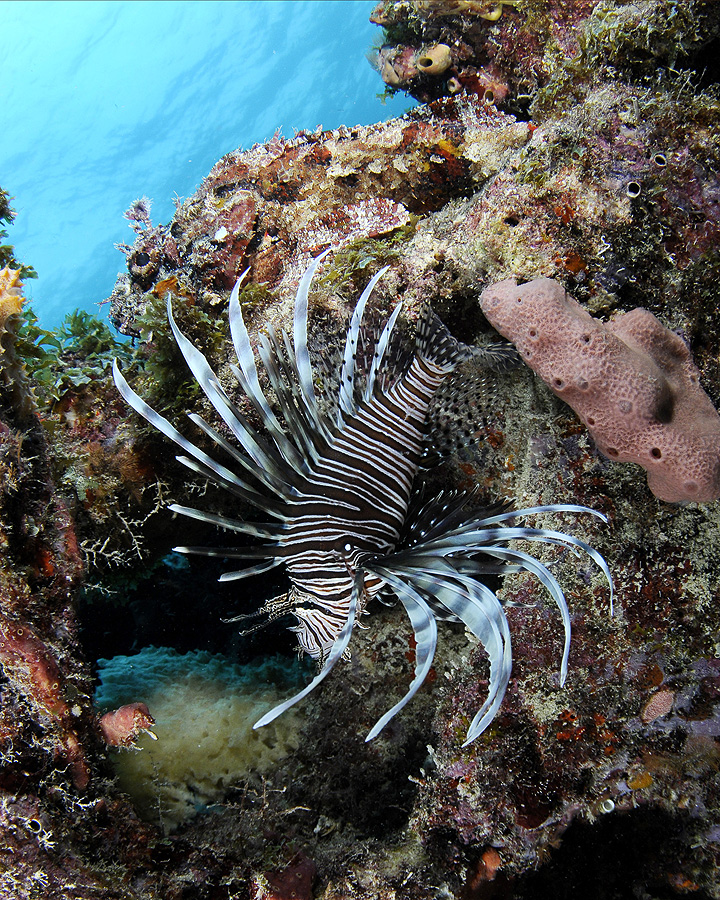Pterois_volitans: (166, 254, 568, 758)
